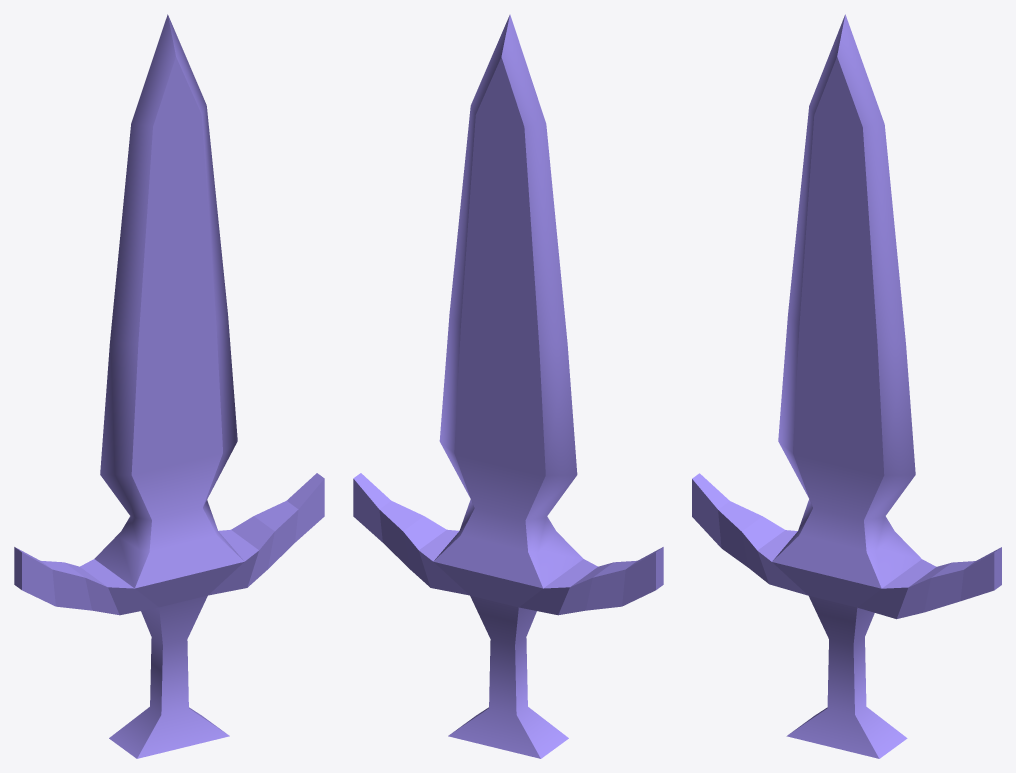
Rendered from sword.fbx.
The picture shows the model from 3 angles, left to right: view 1: azimuth 30°, elevation 25°; view 2: azimuth 150°, elevation 25°; view 3: azimuth 330°, elevation 25°; orthographic projection.
Visible parts, largest first — view 1: Line001; view 2: Line001; view 3: Line001.
Boxes of the visible parts, bbox=[...] form: Line001: bbox=[14, 14, 324, 758]; Line001: bbox=[353, 14, 663, 758]; Line001: bbox=[692, 14, 1001, 758].
Bounding box in the file's own units: 3.1 × 7.08 × 0.7177.
